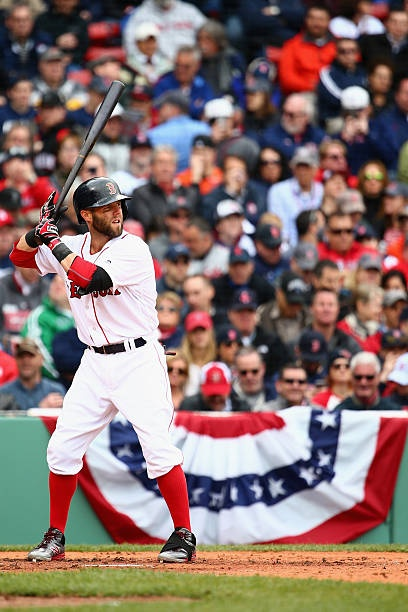bita: (40, 77, 124, 240)
